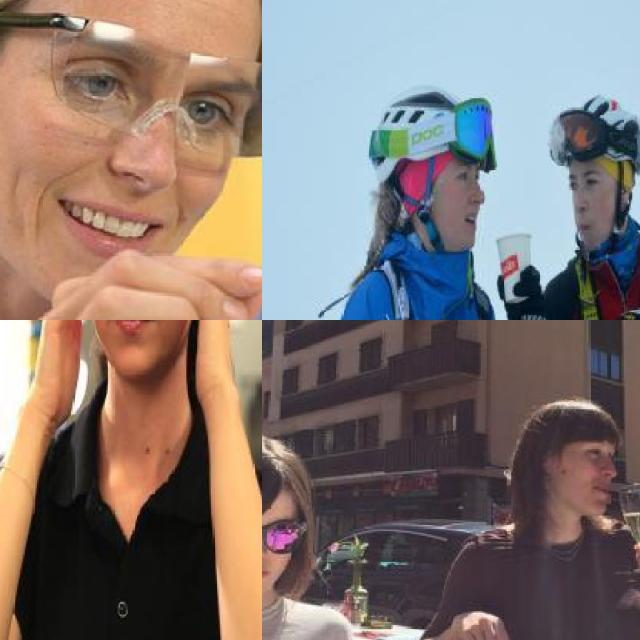No_Glasses: (559, 168, 615, 196), (447, 162, 489, 188)
face_nomask: (38, 38, 252, 250), (557, 438, 621, 512), (262, 500, 301, 597), (447, 164, 490, 236), (561, 170, 605, 240)
glasses: (0, 5, 262, 164), (544, 104, 619, 170), (447, 90, 502, 171), (262, 513, 310, 574)
hand_glove: (490, 263, 556, 320)
hand_noglove: (30, 246, 262, 320), (189, 320, 241, 412), (39, 320, 86, 417), (449, 602, 520, 640)
head_helmet: (370, 79, 493, 181), (538, 100, 640, 175)
head_nohelmet: (519, 390, 624, 437), (262, 426, 324, 497)
person: (0, 320, 262, 640), (315, 79, 548, 320), (530, 90, 640, 320)
